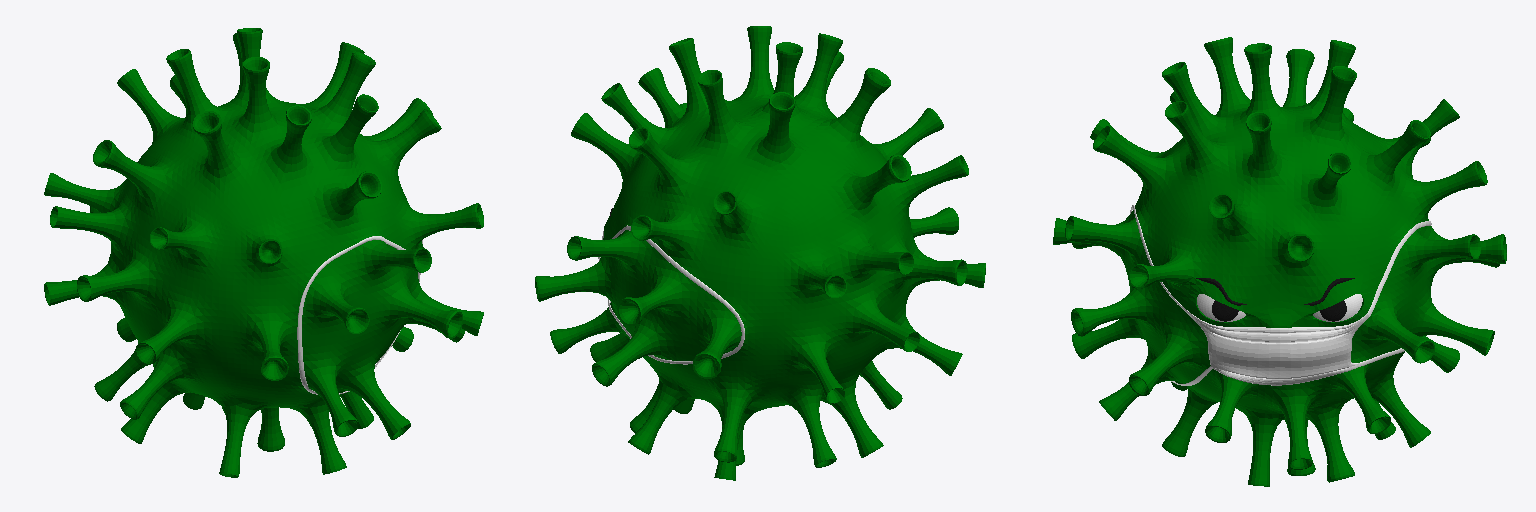
3 renders of one model, left to right at view 1: azimuth 30°, elevation 25°; view 2: azimuth 150°, elevation 25°; view 3: azimuth 270°, elevation 25°, orthographic.
Visible parts, largest first — view 1: Cube.003; view 2: Cube.003; view 3: Cube.003.
Boxes of the visible parts, x1,y1,x2,y2 form: Cube.003: [44, 28, 483, 477]; Cube.003: [535, 26, 985, 480]; Cube.003: [1053, 37, 1506, 486].
Bounding box in the file's own units: 0.3598 × 0.3813 × 0.3837.
1 materials, 1 textured.